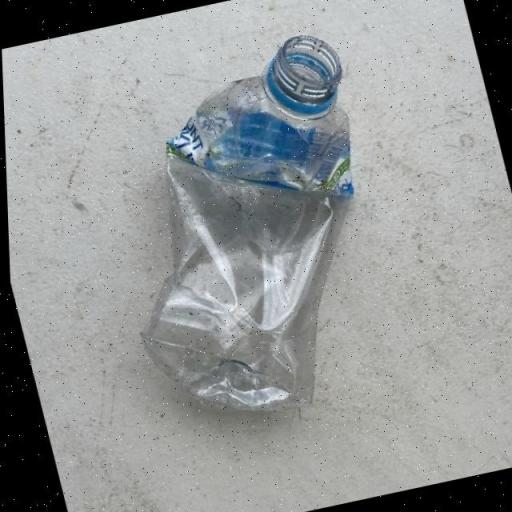plastic: (73, 25, 420, 440)
